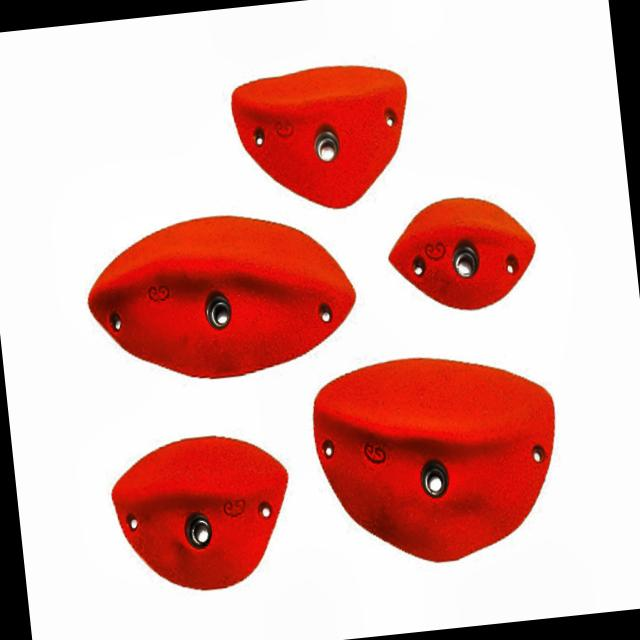Hold: (306, 352, 570, 576), (79, 206, 362, 388), (98, 426, 306, 603), (227, 54, 410, 218), (382, 192, 542, 315)
